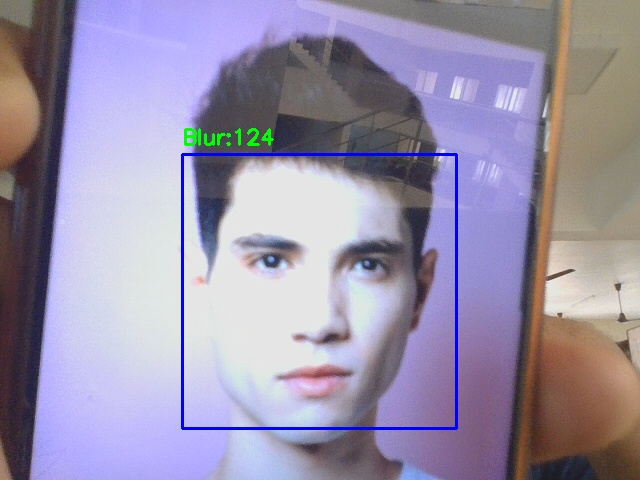fake: (182, 154, 456, 428)
